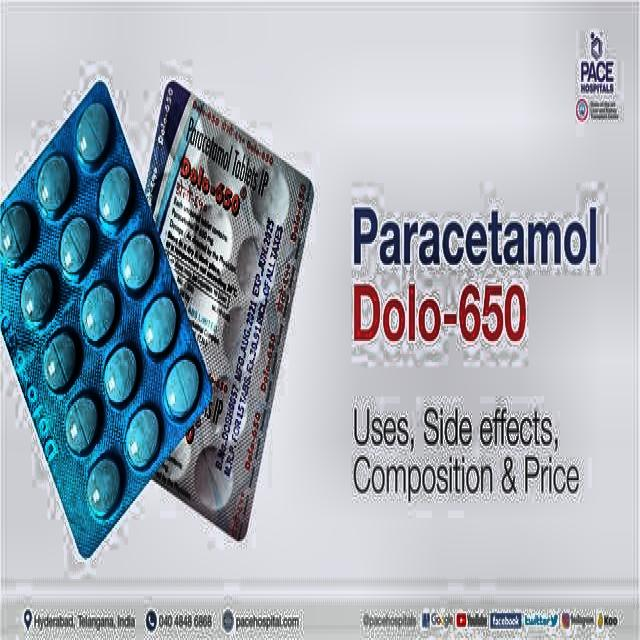Paracetamol: (345, 205, 606, 368)
